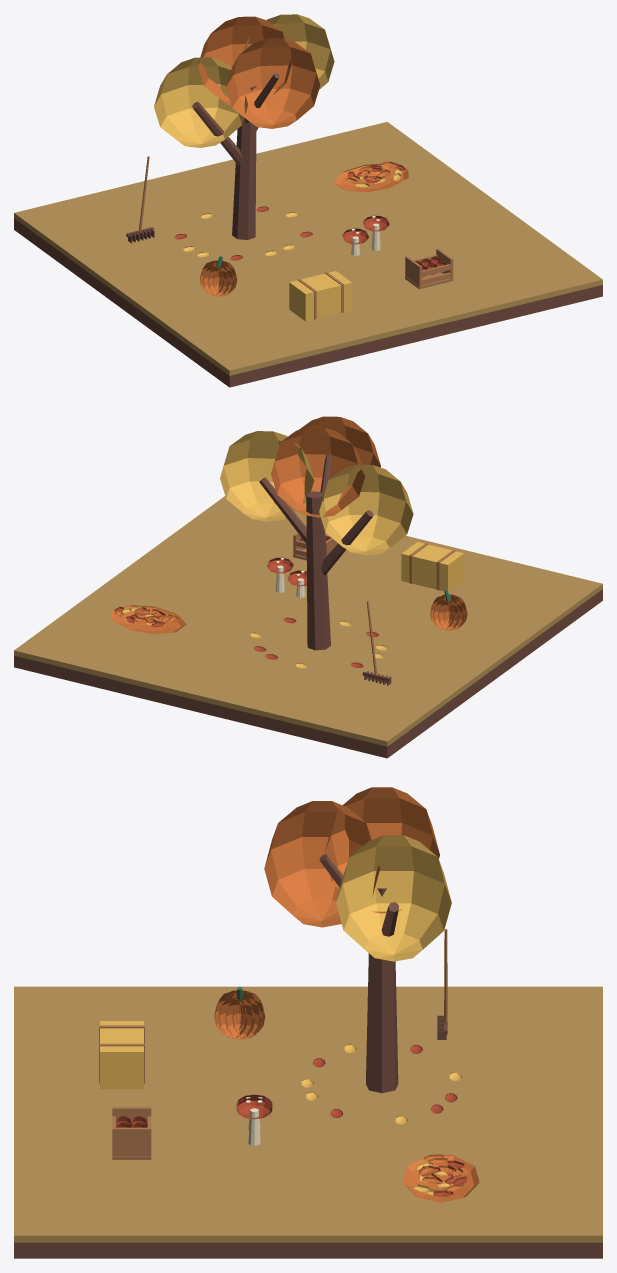
File: turning-seasons-autumn-garden-scene-f11f33e5__2182.glb
3 renders of one model, top to bottom at view 1: azimuth 30°, elevation 25°; view 2: azimuth 150°, elevation 25°; view 3: azimuth 270°, elevation 25°, orthographic. The views are drawn at different scales.
Parts seen in each view (by area): view 1: 000-autumn-ground-tile/1, 000-autumn-ground-tile/0, 001-autumn-orchard-tree/4, 001-autumn-orchard-tree/1, 001-autumn-orchard-tree/0, 001-autumn-orchard-tree/2, 007-hay-bale/0, 001-autumn-orchard-tree/3, 005-harvest-crate/0, 002-pumpkin/0, 004-leaf-pile/0; view 2: 000-autumn-ground-tile/1, 000-autumn-ground-tile/0, 001-autumn-orchard-tree/1, 001-autumn-orchard-tree/2, 001-autumn-orchard-tree/0, 001-autumn-orchard-tree/3, 007-hay-bale/0, 001-autumn-orchard-tree/4, 002-pumpkin/0, 004-leaf-pile/0, 005-harvest-crate/0; view 3: 000-autumn-ground-tile/1, 001-autumn-orchard-tree/3, 000-autumn-ground-tile/0, 001-autumn-orchard-tree/4, 001-autumn-orchard-tree/0, 001-autumn-orchard-tree/2, 007-hay-bale/0, 002-pumpkin/0, 005-harvest-crate/0, 004-leaf-pile/0.
Part boxes in pixels (x1=…): 000-autumn-ground-tile/1: x1=14, y1=122, x2=602, y2=375; 000-autumn-ground-tile/0: x1=14, y1=218, x2=602, y2=387; 001-autumn-orchard-tree/4: x1=226, y1=38, x2=320, y2=128; 001-autumn-orchard-tree/1: x1=154, y1=57, x2=248, y2=147; 001-autumn-orchard-tree/0: x1=192, y1=73, x2=279, y2=239; 001-autumn-orchard-tree/2: x1=197, y1=16, x2=291, y2=106; 007-hay-bale/0: x1=289, y1=271, x2=352, y2=321; 001-autumn-orchard-tree/3: x1=244, y1=14, x2=334, y2=89; 005-harvest-crate/0: x1=405, y1=248, x2=453, y2=289; 002-pumpkin/0: x1=199, y1=260, x2=237, y2=296; 004-leaf-pile/0: x1=333, y1=163, x2=408, y2=192; 000-autumn-ground-tile/1: x1=14, y1=496, x2=602, y2=746; 000-autumn-ground-tile/0: x1=14, y1=589, x2=602, y2=758; 001-autumn-orchard-tree/1: x1=319, y1=464, x2=413, y2=555; 001-autumn-orchard-tree/2: x1=271, y1=427, x2=365, y2=517; 001-autumn-orchard-tree/0: x1=259, y1=454, x2=373, y2=650; 001-autumn-orchard-tree/3: x1=220, y1=431, x2=314, y2=521; 007-hay-bale/0: x1=401, y1=542, x2=464, y2=591; 001-autumn-orchard-tree/4: x1=299, y1=416, x2=380, y2=467; 002-pumpkin/0: x1=430, y1=594, x2=467, y2=630; 004-leaf-pile/0: x1=111, y1=605, x2=186, y2=634; 005-harvest-crate/0: x1=293, y1=525, x2=337, y2=560; 000-autumn-ground-tile/1: x1=14, y1=986, x2=602, y2=1242; 001-autumn-orchard-tree/3: x1=336, y1=835, x2=451, y2=961; 000-autumn-ground-tile/0: x1=14, y1=1242, x2=602, y2=1258; 001-autumn-orchard-tree/4: x1=264, y1=801, x2=379, y2=927; 001-autumn-orchard-tree/0: x1=319, y1=854, x2=398, y2=1093; 001-autumn-orchard-tree/2: x1=324, y1=787, x2=439, y2=913; 007-hay-bale/0: x1=100, y1=1021, x2=143, y2=1089; 002-pumpkin/0: x1=214, y1=990, x2=265, y2=1039; 005-harvest-crate/0: x1=112, y1=1107, x2=151, y2=1159; 004-leaf-pile/0: x1=402, y1=1155, x2=479, y2=1202.
Bounding box in the file's own units: 6 × 3.57 × 6.
